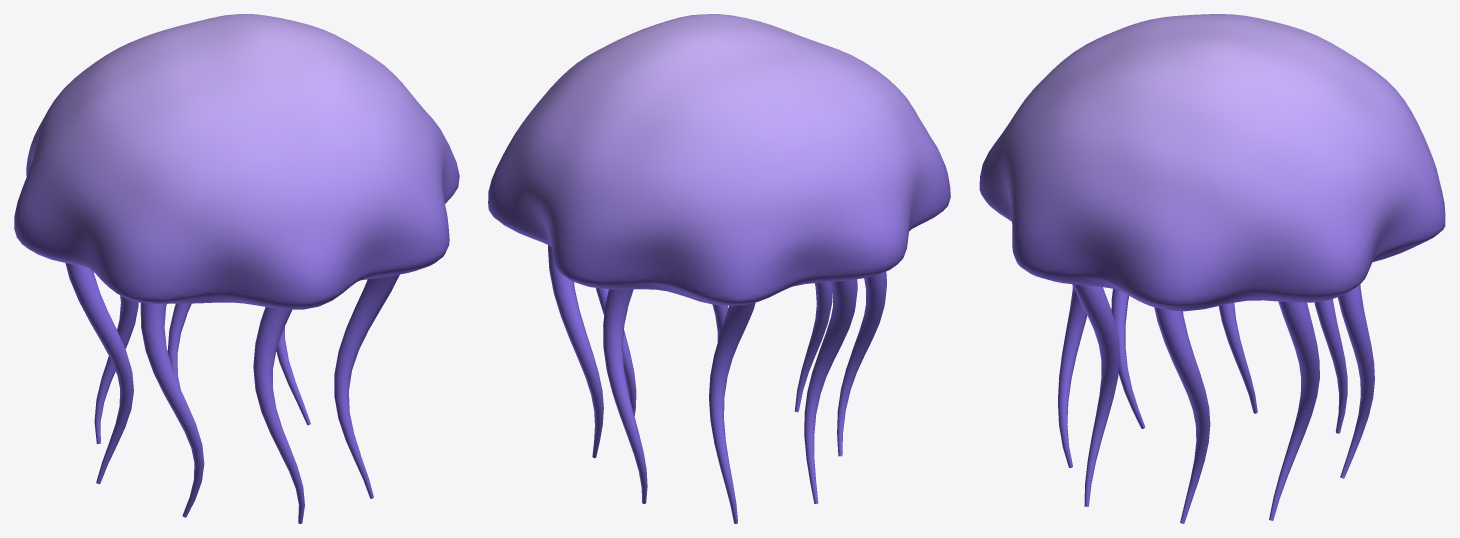
File: jellyfish.fbx
3 renders of one model, left to right at view 1: azimuth 30°, elevation 25°; view 2: azimuth 150°, elevation 25°; view 3: azimuth 270°, elevation 25°, orthographic. The views are drawn at different scales.
Visible parts, largest first — view 1: jellyfish; view 2: jellyfish; view 3: jellyfish.
Boxes of the visible parts, x1,y1,x2,y2 form: jellyfish: [14, 14, 459, 523]; jellyfish: [488, 14, 950, 523]; jellyfish: [979, 14, 1445, 523].
Bounding box in the file's own units: 0.0871 × 0.09 × 0.0872.
1 material, 1 textured.
